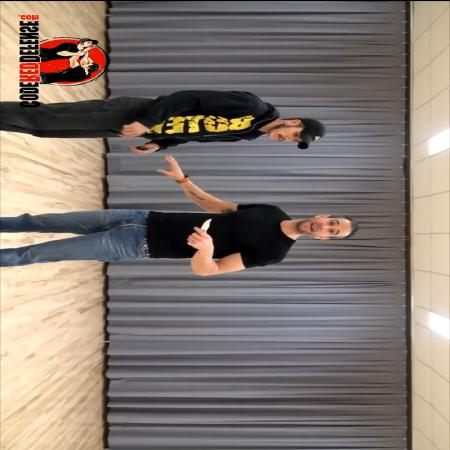long weapon: (188, 217, 216, 246)
